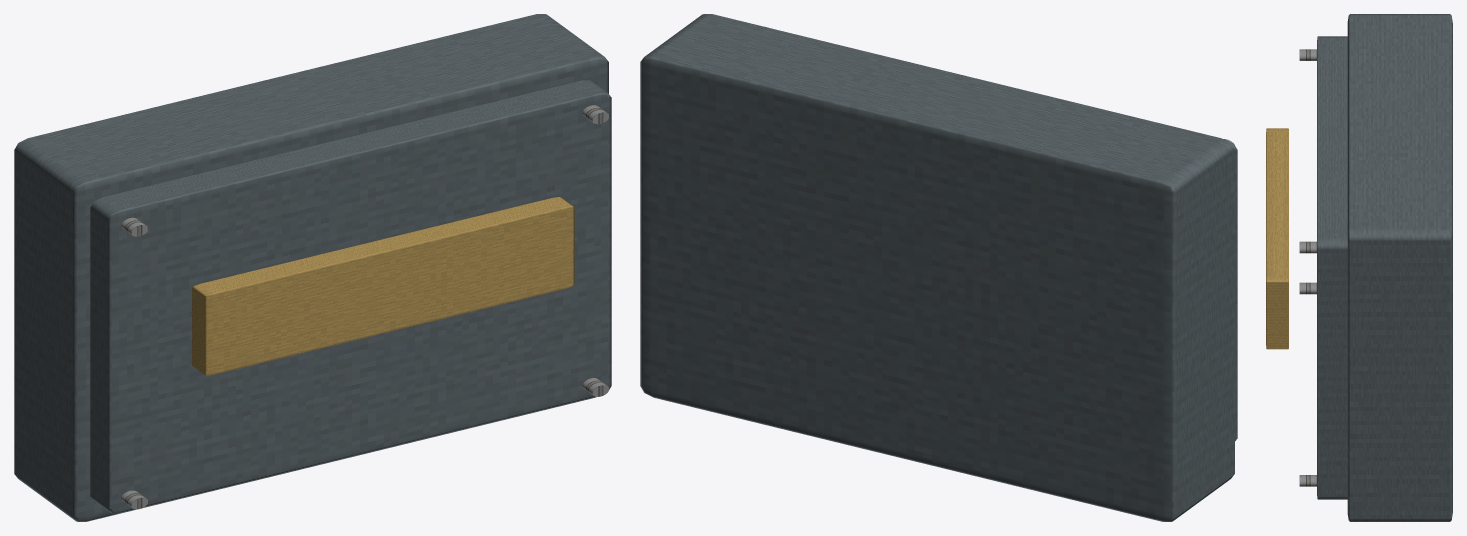
The model's file is cart-latch.glb.
3 views of the same model, side by side, from view 1: azimuth 30°, elevation 25°; view 2: azimuth 150°, elevation 25°; view 3: azimuth 270°, elevation 25° (orthographic). The views are drawn at different scales.
Visible parts, largest first — view 1: face, back, toggle; view 2: back, face; view 3: back, face, toggle, pin (×2).
Part boxes in pixels (<box>): face: <box>90,80,611,513</box>; back: <box>14,14,608,521</box>; toggle: <box>192,197,574,375</box>; back: <box>640,14,1234,521</box>; face: <box>1223,139,1237,440</box>; back: <box>1347,14,1452,521</box>; face: <box>1317,36,1347,499</box>; toggle: <box>1266,128,1288,349</box>; pin (×2): <box>1299,241,1316,294</box>.
Bounding box in the file's own units: 0.13 × 0.079 × 0.0458.
3 materials, 3 textured.
